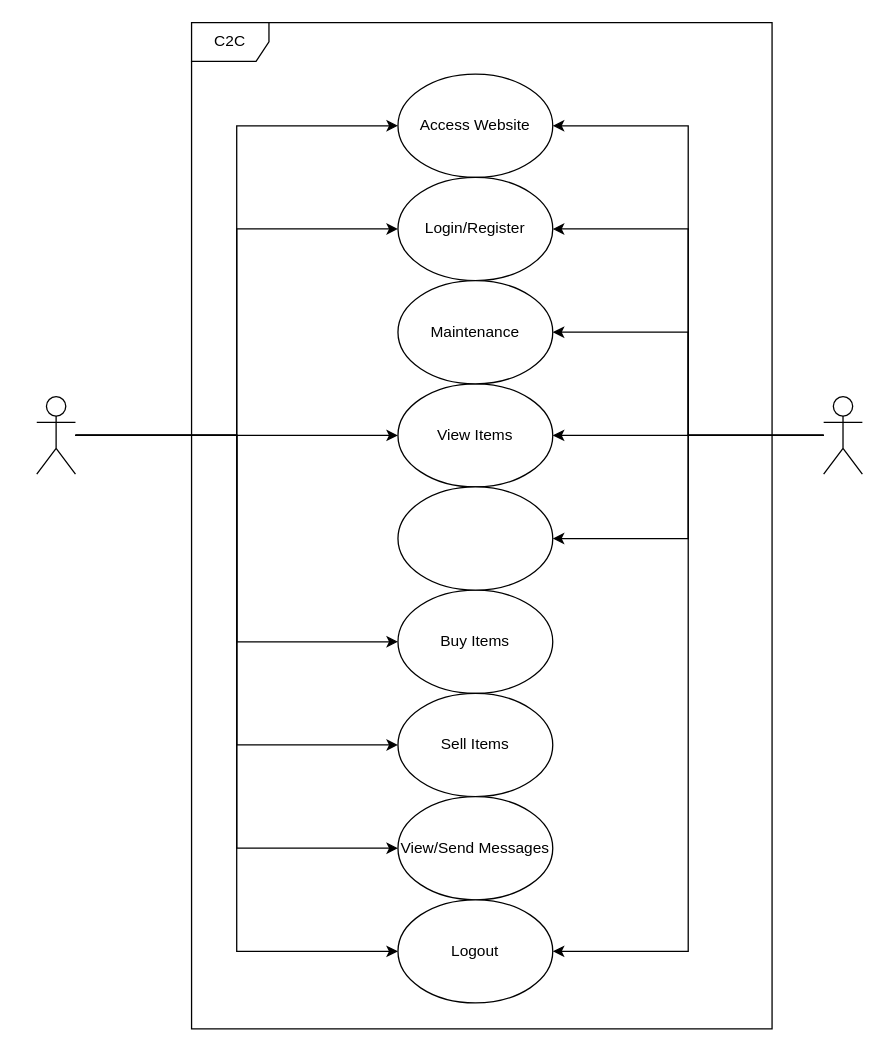
The diagram is 886 pixels wide and 1051 high, and some of its shapes have lost their labels. Each missing label, with the box of its shape:
Admin: (822, 395, 862, 474)
Customer: (35, 395, 75, 474)
Remove Items: (397, 486, 553, 590)
